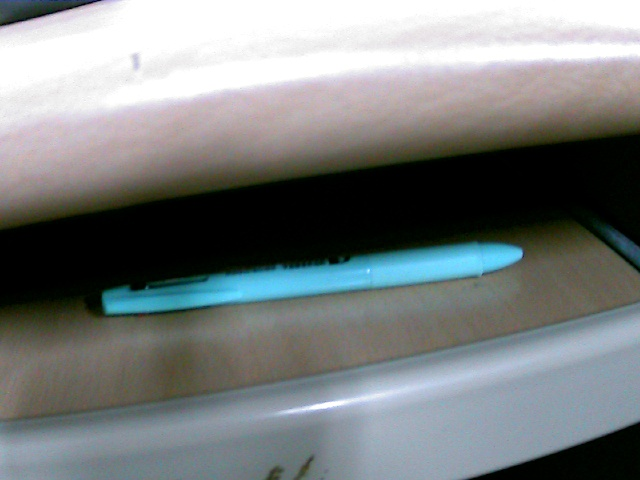pen: (102, 241, 527, 316)
